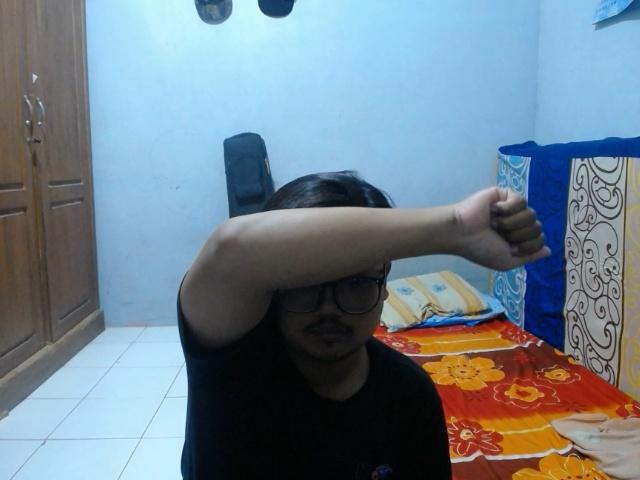Grab: (448, 180, 554, 277)
